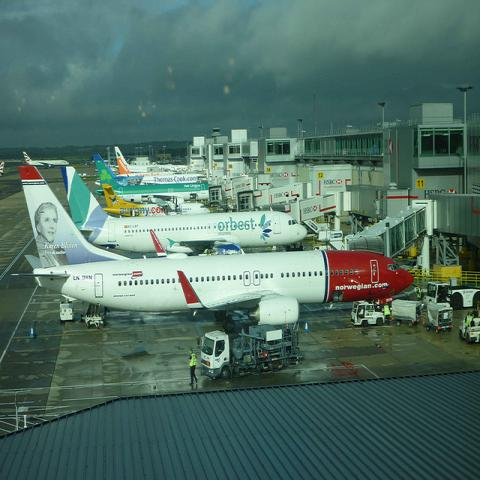truck: (199, 324, 303, 379), (422, 300, 453, 333), (350, 300, 386, 328), (460, 311, 479, 343)
